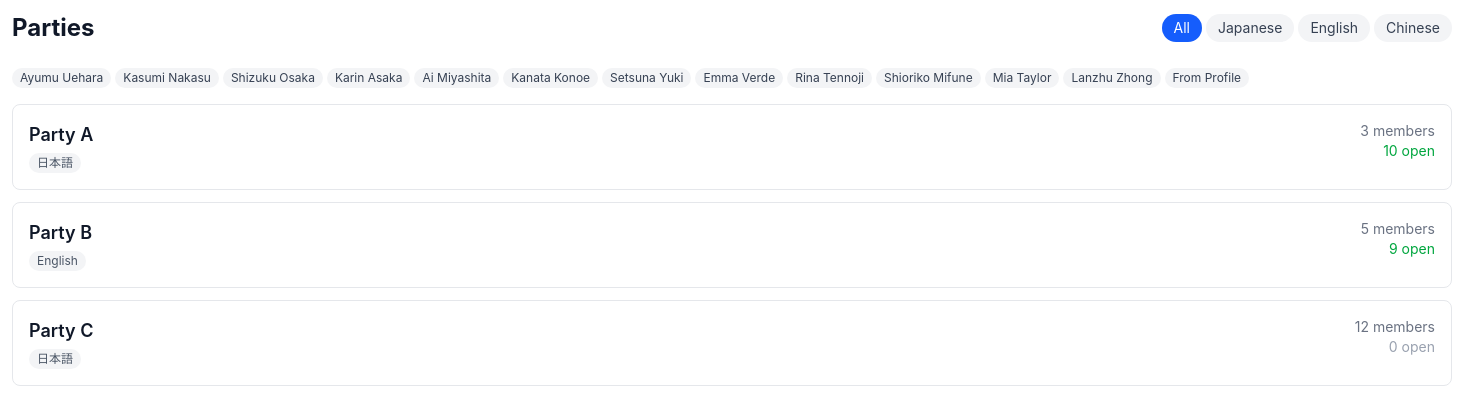
Test: PartyList — from profile character filter › applies user's character preferences as filters when clicked
Expected: the heading "Party A" is shown, 29,121 -> 93,149
Click the button "From Profile" at (1207, 78), box 1164,68 -> 1249,88
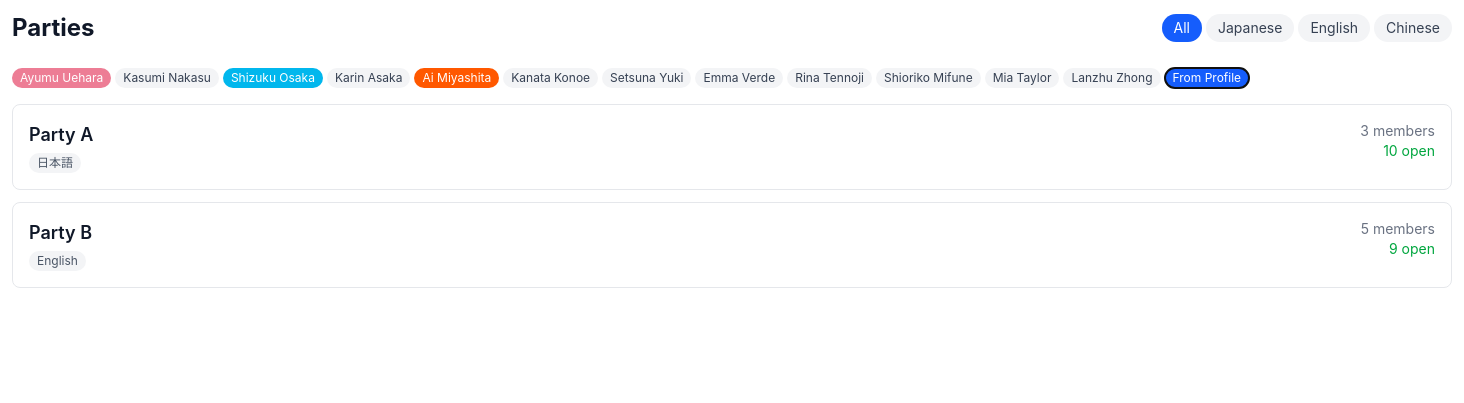
Expected: the heading "Party A" is shown, 29,121 -> 93,149
Now the link "Party C" is gone
